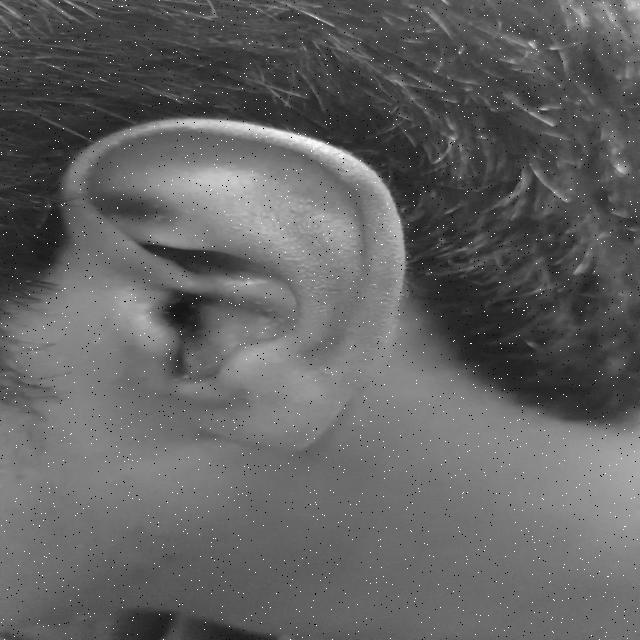ear: (60, 118, 403, 450)
